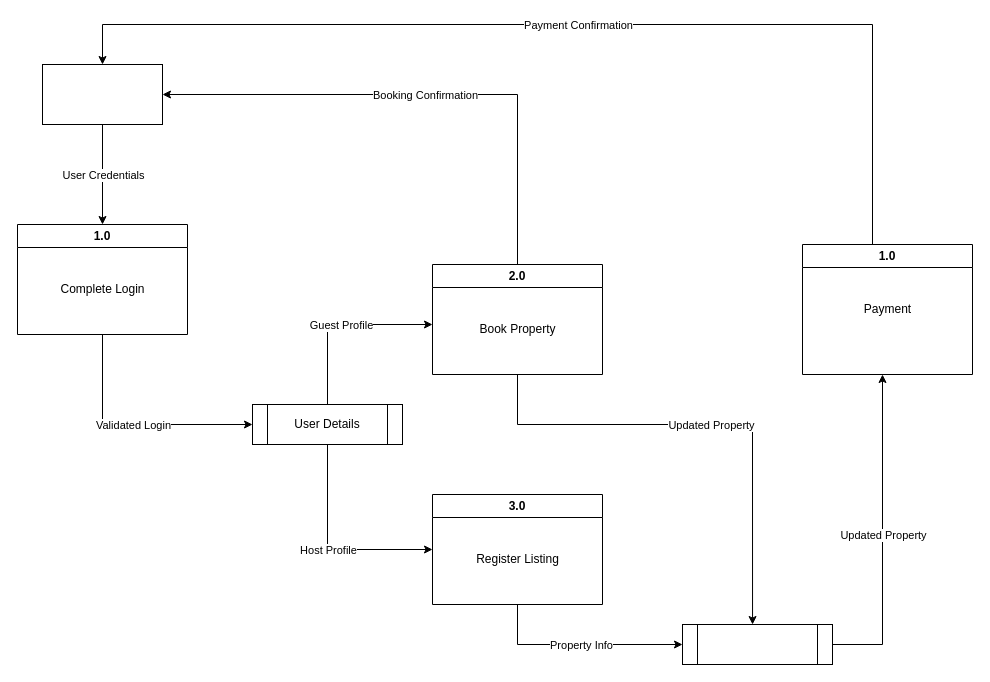
This 990x682 diagram has some shape labels left out. The centre of each missing label's shape, as x and y in pixels:
"Property Details" goes at point (757, 644).
"Users" goes at point (102, 94).
